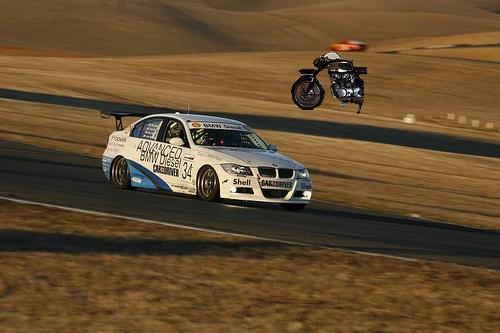tampered: (292, 53, 367, 114)
